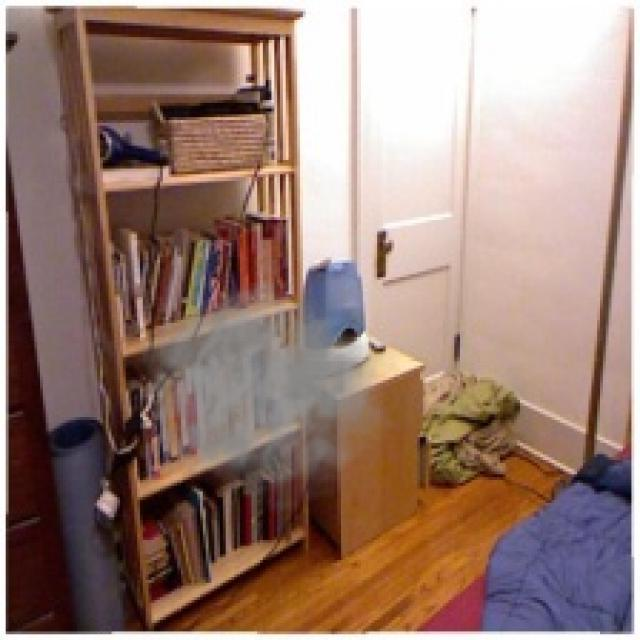Smoke: (137, 280, 400, 514)
